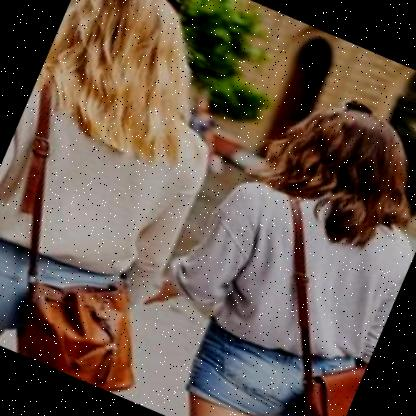bag: (10, 270, 149, 404)
